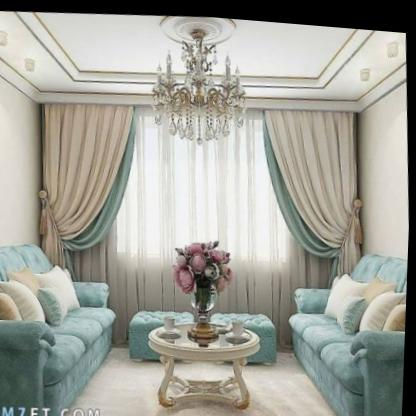Carpet: (63, 345, 180, 416)
Curtains: (41, 103, 136, 277), (264, 105, 360, 266)
Gypsum Board: (0, 0, 409, 118)
Sofa: (0, 231, 126, 416), (286, 236, 410, 416)
